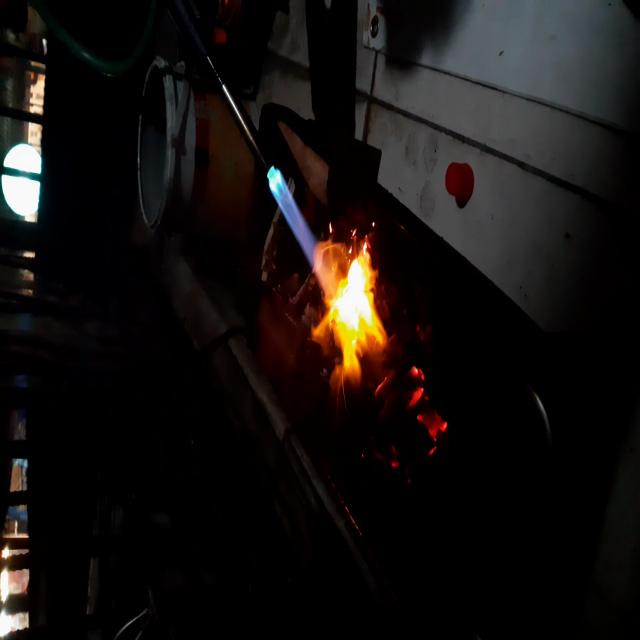Fire: (315, 156, 386, 402), (404, 346, 454, 472), (267, 165, 320, 275), (259, 300, 303, 380)
